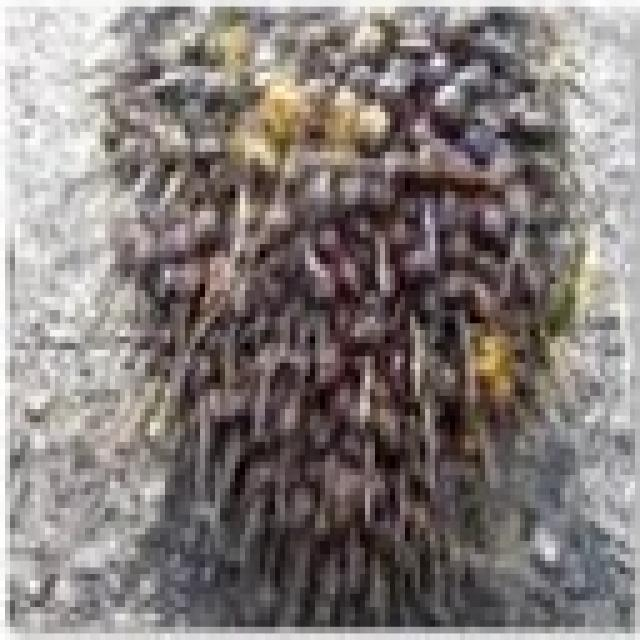FFB: (107, 17, 583, 628)
